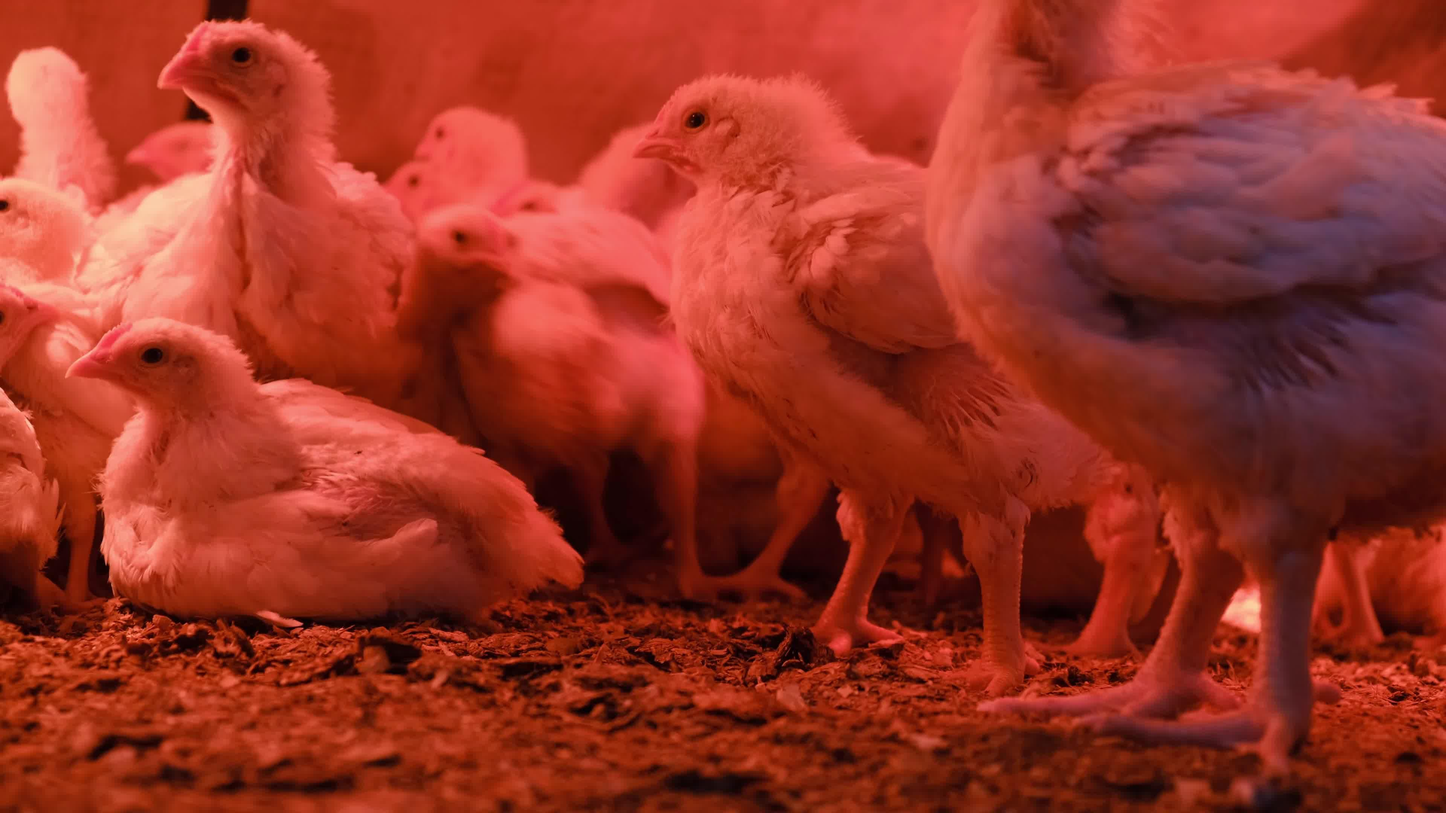AbNormal: (64, 311, 588, 620), (0, 285, 68, 632), (1313, 505, 1444, 657)
Normal: (925, 2, 1446, 774), (633, 72, 1140, 690), (411, 100, 710, 601), (72, 15, 433, 411), (0, 166, 168, 628), (387, 206, 537, 429), (12, 38, 117, 217), (121, 121, 228, 190), (379, 155, 454, 220)
